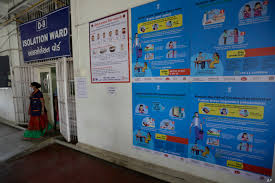mask: (28, 82, 37, 92)
